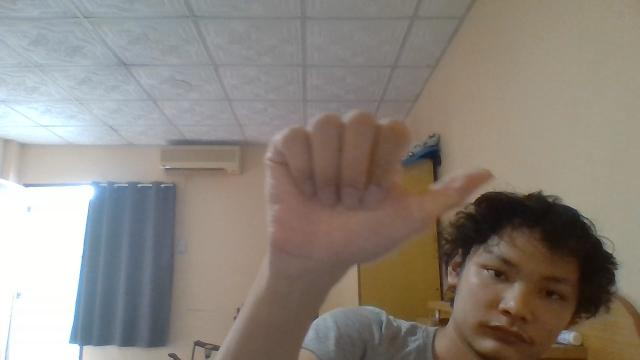left: (262, 108, 493, 276)
